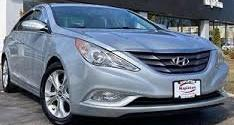Cars: (4, 4, 228, 124)
